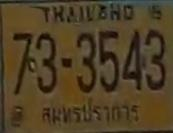3: (144, 29, 165, 89), (35, 32, 56, 92), (76, 32, 96, 92)
4: (122, 30, 141, 89)
5: (99, 30, 120, 93)
7: (12, 32, 33, 94)
SPK: (38, 98, 141, 125)
